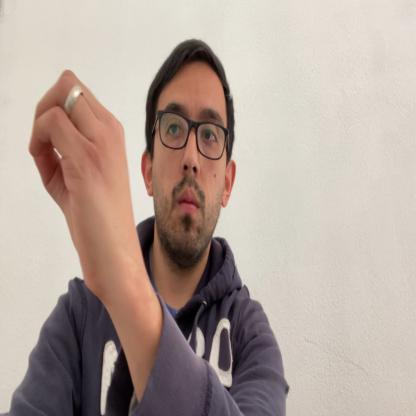O: (29, 68, 136, 273)
